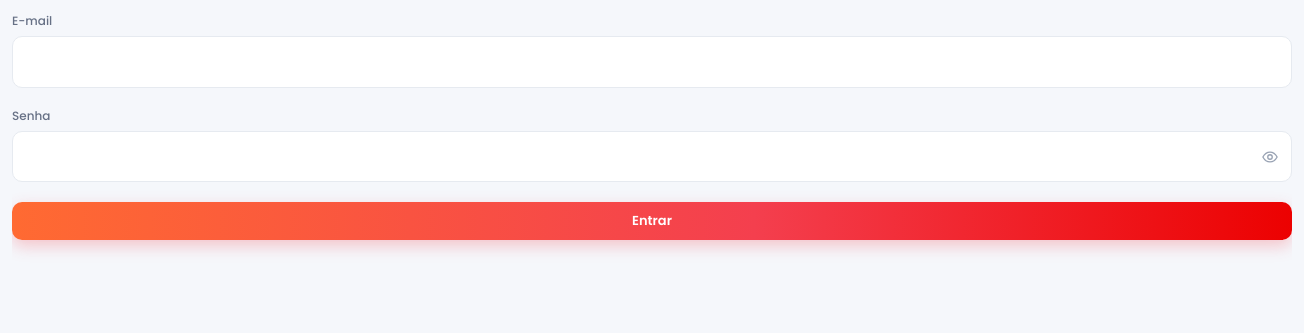
LoginForm › shows a simple error and clears the password after a failed login
Type "ana@globo.com" into the field labelled "E-mail".
click(652, 62); type("ana@globo.com")  # box [12, 36, 1292, 88]
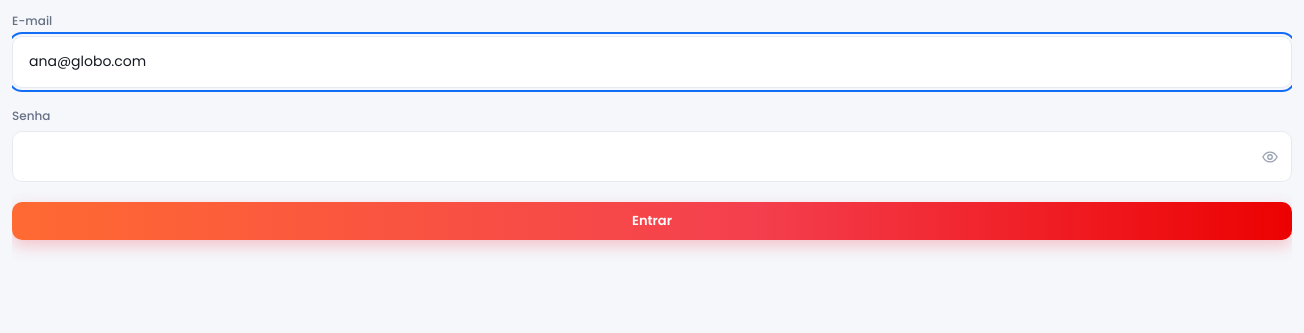
Type "errada" into the password field labelled "Senha".
click(652, 157); type("errada")  # box [12, 131, 1292, 182]
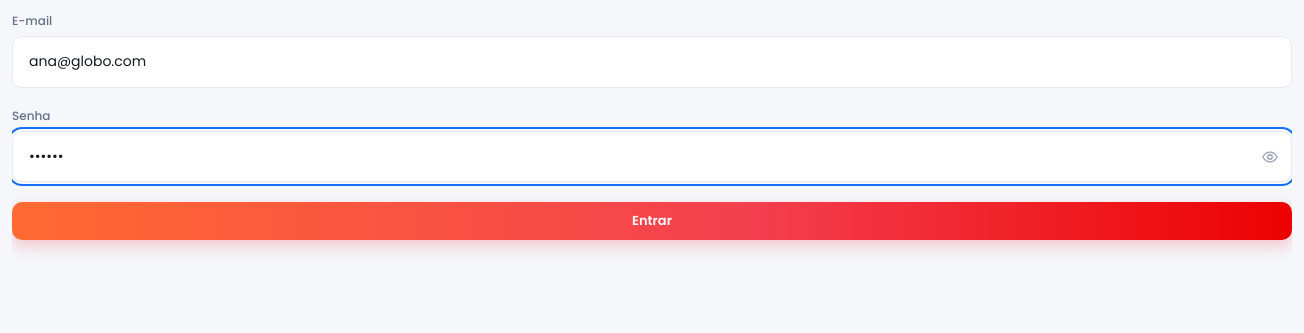
Click the button "Entrar".
click(652, 221)  # box [12, 202, 1292, 240]
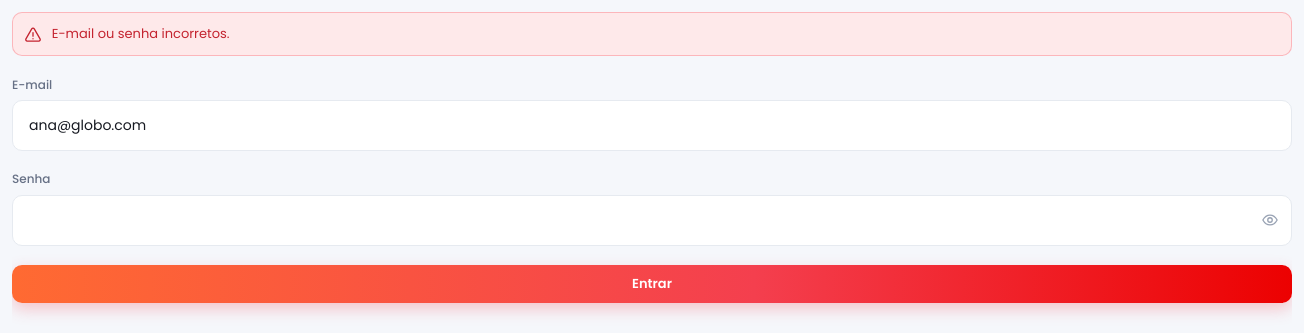
Now the text "E-mail ou senha incorretos." is shown, box [52, 24, 230, 44]
Now the password field labelled "Senha" is empty, box [12, 195, 1292, 246]
